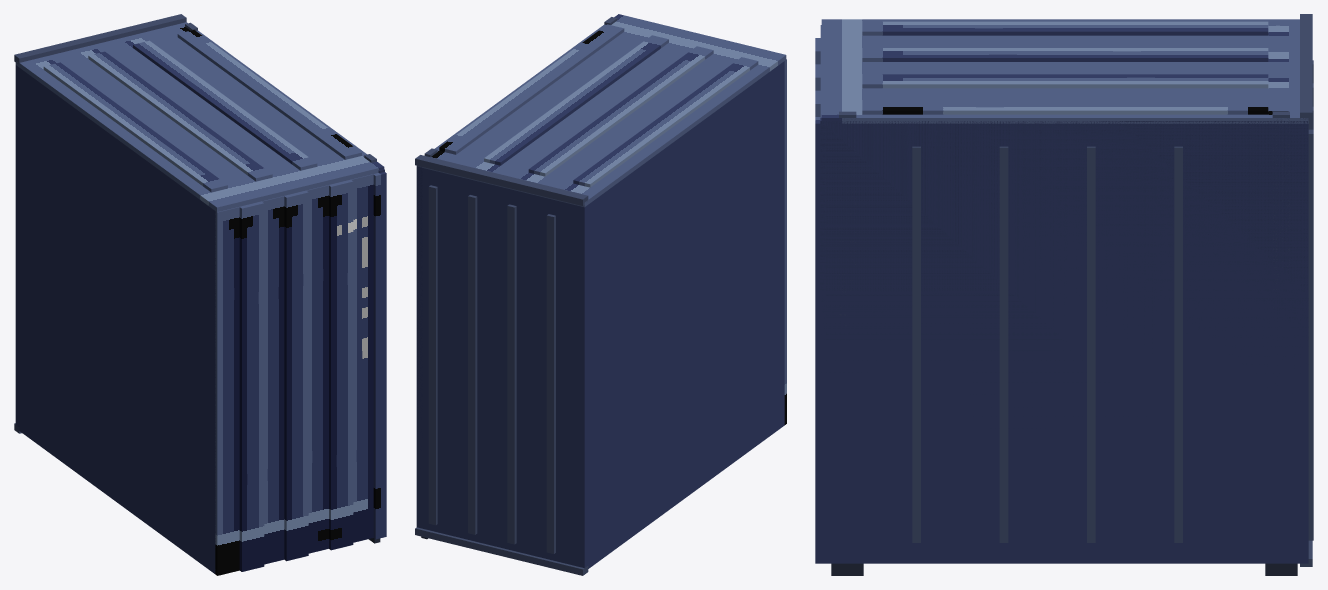
Rendered from CMU3DFreightRMCContainerBlueRight.glb.
The picture shows the model from 3 angles, left to right: view 1: azimuth 30°, elevation 25°; view 2: azimuth 150°, elevation 25°; view 3: azimuth 270°, elevation 25°; orthographic projection. The views are drawn at different scales.
Parts seen in each view (by area): view 1: closed cargo shell, source-painted corrugated roof, painted corrugation 2, painted corrugation 4, painted corrugation 6, painted corrugation 1, painted corrugation 7, painted corrugation 3, painted corrugation 5, painted corrugation 8, source-painted roof ridge 4, source-painted roof ridge 2 (+3 smaller); view 2: closed cargo shell, source-painted corrugated roof, rear wall corrugation (×4), rear horizontal frame (×2), source-painted roof ridge 1, source-painted roof ridge 2, source-painted roof ridge 4, source-painted roof ridge 3, painted corrugation 1, outer end wall; view 3: closed cargo shell, source-painted corrugated roof, outer end wall, end wall rib (×4), source-painted roof ridge 1, source-painted roof ridge 3, source-painted roof ridge 4, source-painted roof ridge 2, painted corrugation 8, rear wall corrugation, rear horizontal frame.
Boxes of the visible parts, bbox=[...] form: closed cargo shell: bbox=[15, 65, 215, 573]; source-painted corrugated roof: bbox=[15, 22, 384, 211]; painted corrugation 2: bbox=[239, 201, 264, 571]; painted corrugation 4: bbox=[284, 190, 308, 561]; painted corrugation 6: bbox=[329, 179, 353, 550]; painted corrugation 1: bbox=[215, 207, 239, 575]; painted corrugation 7: bbox=[351, 174, 373, 542]; painted corrugation 3: bbox=[262, 196, 284, 564]; painted corrugation 5: bbox=[306, 185, 328, 553]; painted corrugation 8: bbox=[373, 172, 386, 539]; source-painted roof ridge 4: bbox=[177, 30, 361, 159]; source-painted roof ridge 2: bbox=[88, 51, 272, 181]; closed cargo shell: bbox=[416, 61, 784, 568]; source-painted corrugated roof: bbox=[417, 14, 786, 207]; rear wall corrugation (×4): bbox=[428, 185, 555, 553]; rear horizontal frame (×2): bbox=[415, 155, 588, 575]; source-painted roof ridge 1: bbox=[573, 57, 758, 187]; source-painted roof ridge 2: bbox=[528, 46, 713, 176]; source-painted roof ridge 4: bbox=[439, 24, 624, 154]; source-painted roof ridge 3: bbox=[484, 35, 668, 165]; painted corrugation 1: bbox=[784, 59, 786, 424]; outer end wall: bbox=[416, 166, 422, 431]; closed cargo shell: bbox=[825, 123, 1308, 563]; source-painted corrugated roof: bbox=[821, 19, 1308, 123]; outer end wall: bbox=[820, 117, 1308, 372]; end wall rib (×4): bbox=[912, 146, 1182, 542]; source-painted roof ridge 1: bbox=[862, 21, 1268, 35]; source-painted roof ridge 3: bbox=[862, 74, 1268, 88]; source-painted roof ridge 4: bbox=[862, 100, 1268, 114]; source-painted roof ridge 2: bbox=[862, 48, 1268, 61]; painted corrugation 8: bbox=[815, 117, 825, 563]; rear wall corrugation: bbox=[1308, 129, 1313, 540]; rear horizontal frame: bbox=[1300, 14, 1312, 120].
Size of the model in its own units: 0.9455 by 2.05 by 2.
Materials: 15 (11 with a texture image).
